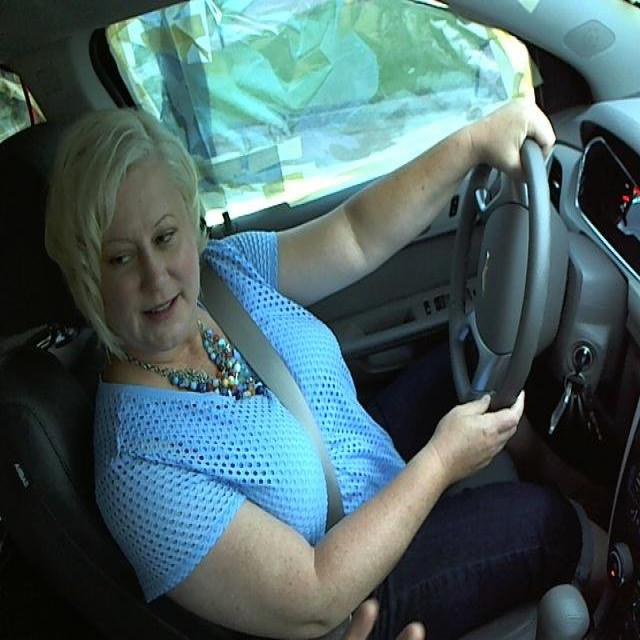seatbelt: (208, 282, 371, 526)
